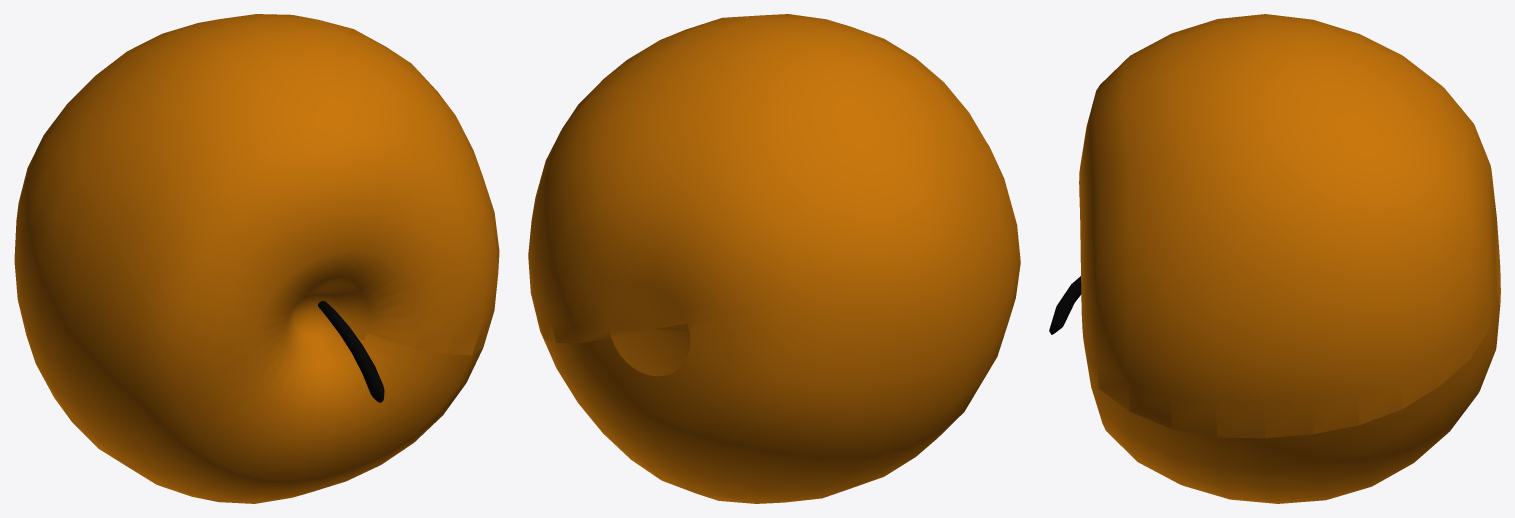
The model's file is apple.fbx.
3 renders of one model, left to right at view 1: azimuth 30°, elevation 25°; view 2: azimuth 150°, elevation 25°; view 3: azimuth 270°, elevation 25°, orthographic.
Parts seen in each view (by area): view 1: object_2, object_1; view 2: object_2; view 3: object_2, object_1.
Part boxes in pixels (<box>): object_2: <box>14,14,499,503</box>; object_1: <box>318,301,384,402</box>; object_2: <box>528,14,1020,503</box>; object_2: <box>1079,14,1500,503</box>; object_1: <box>1049,276,1081,334</box>.
Bounding box in the file's own units: 4.1 × 4.18 × 3.82.
